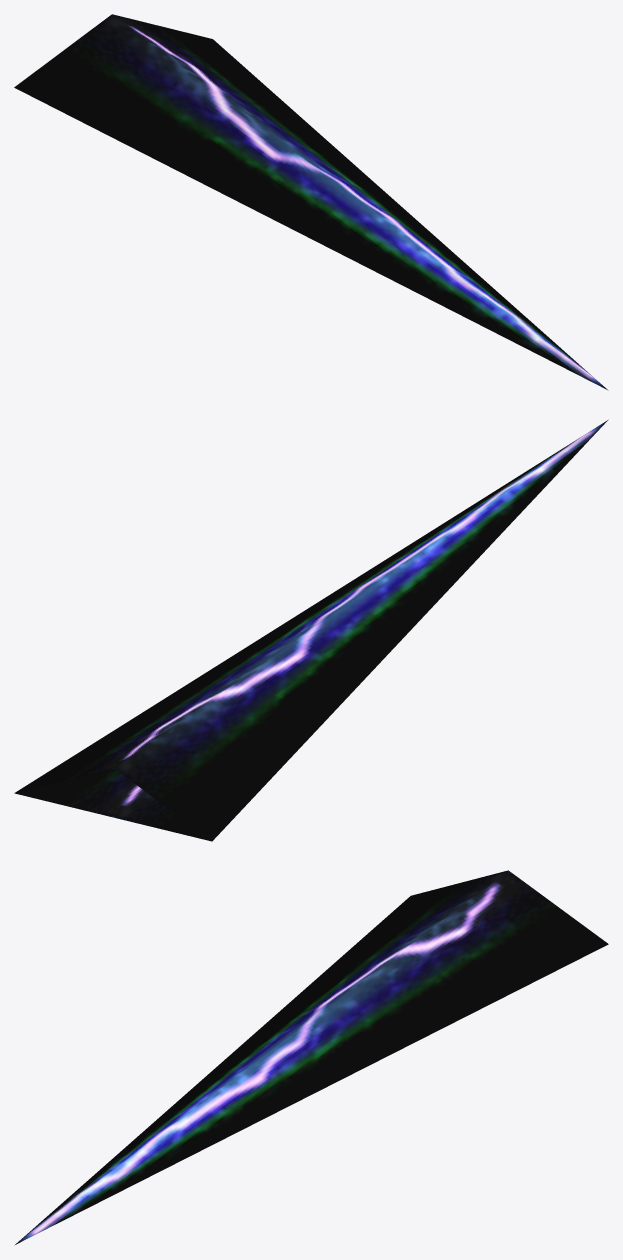
File: ray.glb
3 renders of one model, top to bottom at view 1: azimuth 30°, elevation 25°; view 2: azimuth 150°, elevation 25°; view 3: azimuth 330°, elevation 25°, orthographic.
Parts seen in each view (by area): view 1: ray; view 2: ray; view 3: ray.
Part boxes in pixels (<box>): ray: <box>14,14,608,390</box>; ray: <box>14,419,608,841</box>; ray: <box>14,870,608,1245</box>.
Size of the model in its own units: 259 by 61.71 by 1121.
1 material, 1 textured.
